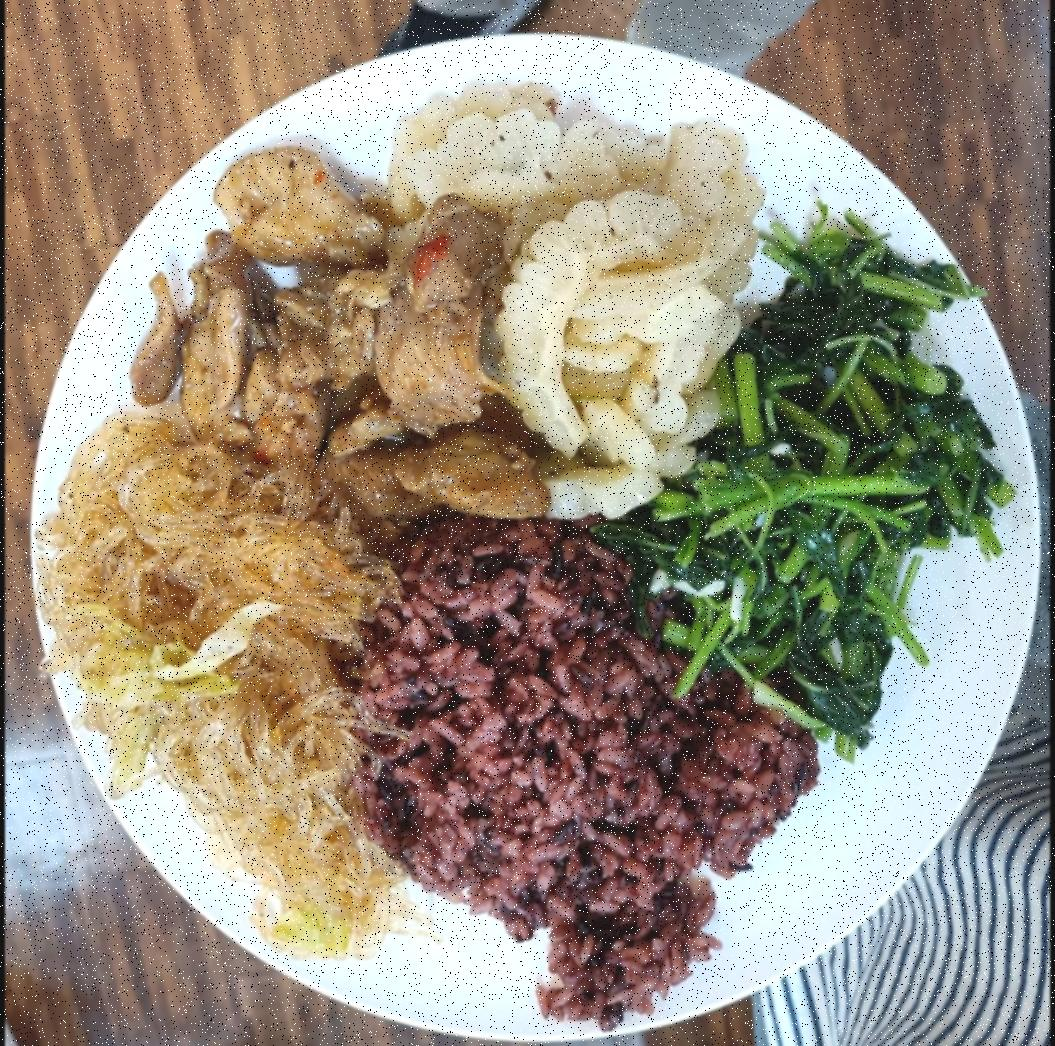plate: (33, 13, 1030, 1042)
purple rice: (361, 528, 821, 1018)
side dish: (65, 436, 370, 922), (725, 220, 1001, 713), (500, 83, 744, 500)
three cup chicken: (128, 149, 506, 508)
